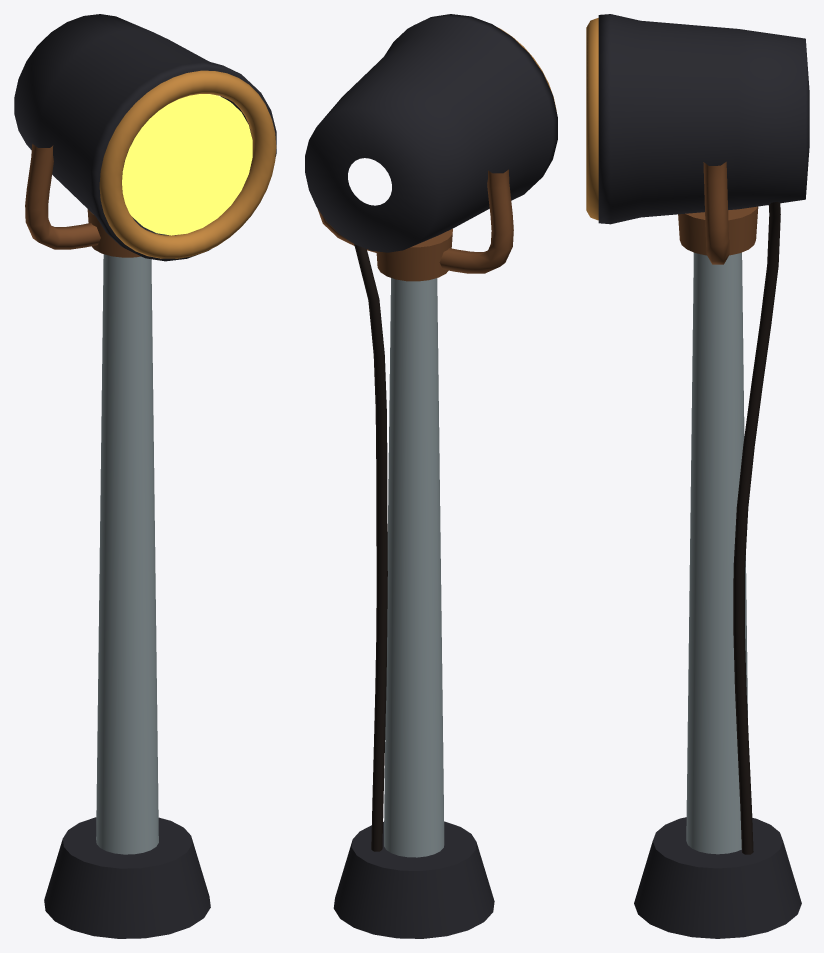
File: mia-signal_lamp.glb
The picture shows the model from 3 angles, left to right: view 1: azimuth 30°, elevation 25°; view 2: azimuth 150°, elevation 25°; view 3: azimuth 270°, elevation 25°; orthographic projection. The views are drawn at different scales.
Visible parts, largest first — view 1: Body_iron, Body_steel, Body_amber, Body_brass, Body_rust; view 2: Body_iron, Body_steel, Body_black, Body_rust; view 3: Body_iron, Body_steel, Body_black, Body_rust, Body_brass.
Boxes of the visible parts, x1,y1,x2,y2 form: Body_iron: (14,14,276,938); Body_steel: (96,254,158,854); Body_amber: (122,94,252,235); Body_brass: (99,70,276,258); Body_rust: (25,144,140,257); Body_iron: (305,14,557,938); Body_steel: (384,278,444,857); Body_black: (354,244,387,851); Body_rust: (317,169,513,281); Body_iron: (598,14,809,938); Body_steel: (686,252,747,854); Body_black: (733,202,780,854); Body_rust: (678,161,758,264); Body_brass: (586,18,598,220).
Bounding box in the file's own units: 0.4798 × 2.01 × 0.4626.
